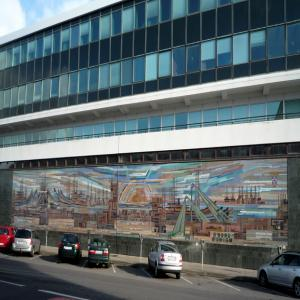Vehicle-registration-plate: (168, 256, 177, 262)
